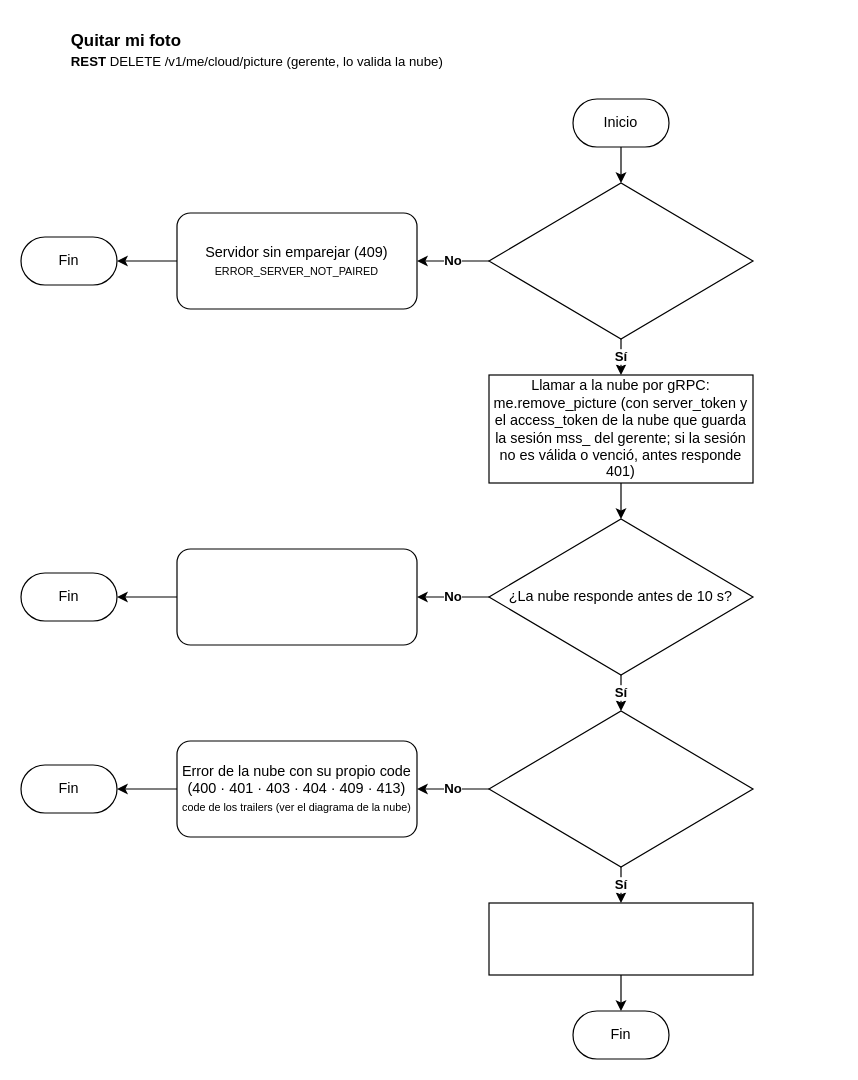
This 858x1080 diagram has some shape labels left out. The shapes that lost their labels are listed below. From the top down, each one's box as (x1, y1, x2, y2) in pixels, then its label:
(488, 182, 753, 339): ¿El servidor ya se emparejó alguna vez (pairing_status distinto de unpaired)?
(176, 548, 417, 645): La nube no responde (503) ERROR_CLOUD_UNAVAILABLE · ERROR_SERVER_UNLINKED
(488, 710, 753, 867): ¿La nube acepta la petición?
(488, 902, 753, 975): Responder 200
